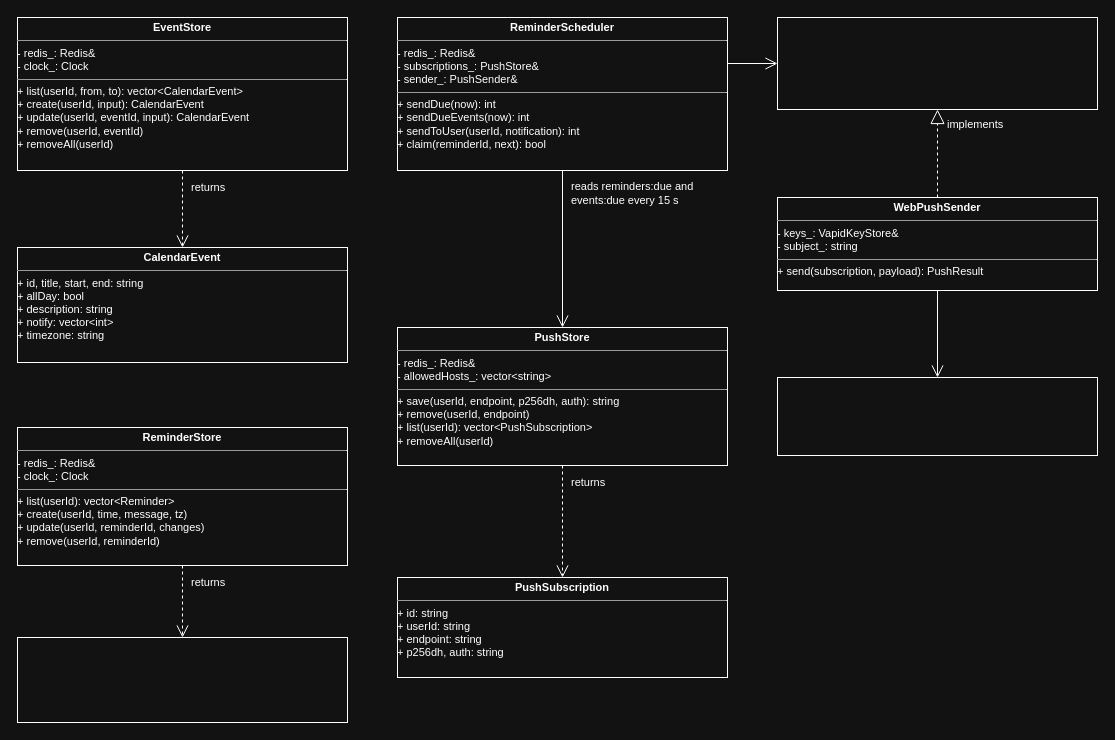
The diagram is 1115 pixels wide and 740 high, and some of its shapes have lost their labels. Each missing label, with the box of its shape:
Reminder + id, time, message: string + enabled: bool + timezone: string: (16, 636, 348, 722)
VapidKeyStore - keys_: optional<VapidKeys> + keys(): VapidKeys: (776, 376, 1098, 456)
«interface» PushSender + send(subscription, payload): PushResult: (776, 16, 1098, 110)
